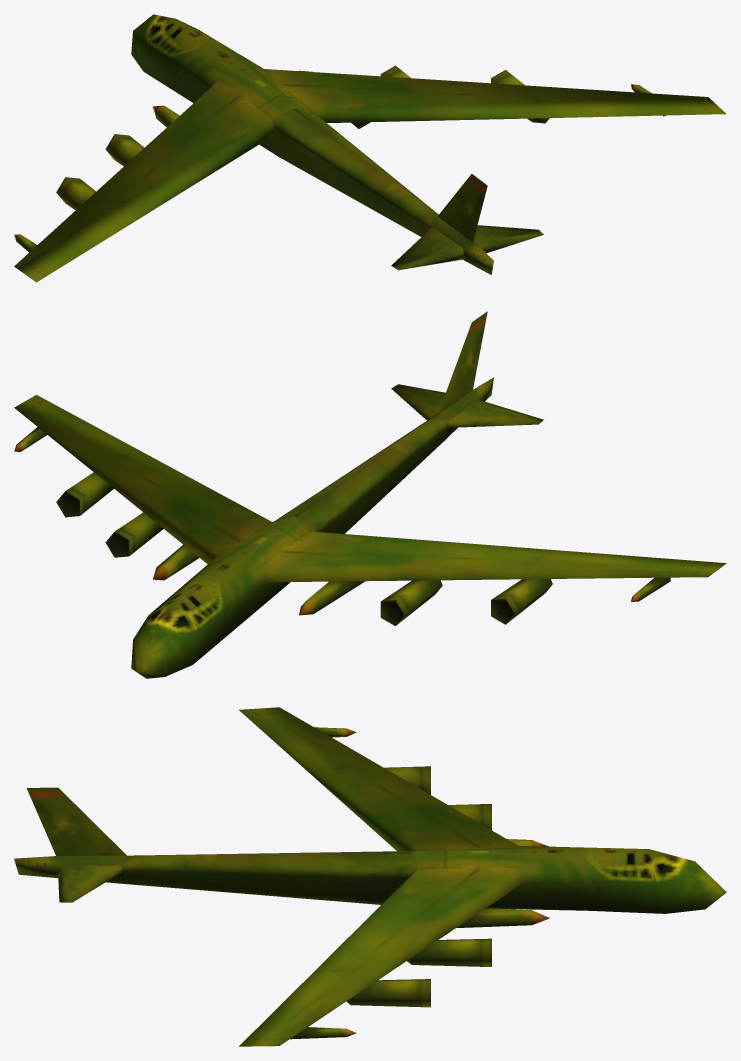
The model's file is Enemy2.FBX.
The picture shows the model from 3 angles, top to bottom: view 1: azimuth 30°, elevation 25°; view 2: azimuth 150°, elevation 25°; view 3: azimuth 270°, elevation 25°; orthographic projection.
Visible parts, largest first — view 1: enemy2; view 2: enemy2; view 3: enemy2.
Part boxes in pixels (x1,y1,x2,y2): enemy2: (14, 14, 726, 282); enemy2: (14, 311, 726, 678); enemy2: (14, 707, 726, 1046).
Bounding box in the file's own units: 322 × 55.36 × 287.
1 material, 1 textured.
